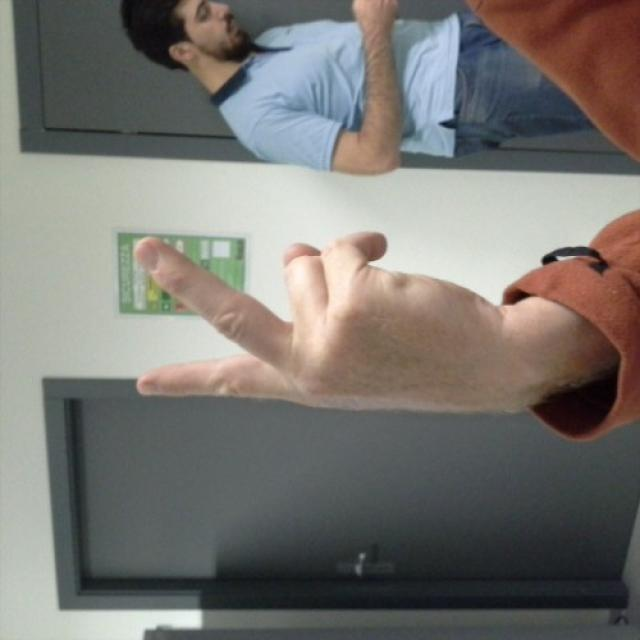scissors: (135, 231, 532, 414)
